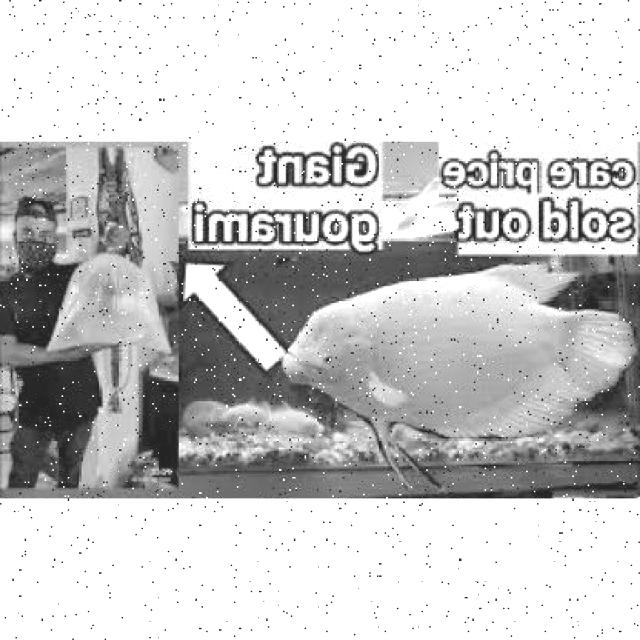gurame: (276, 262, 630, 468)
